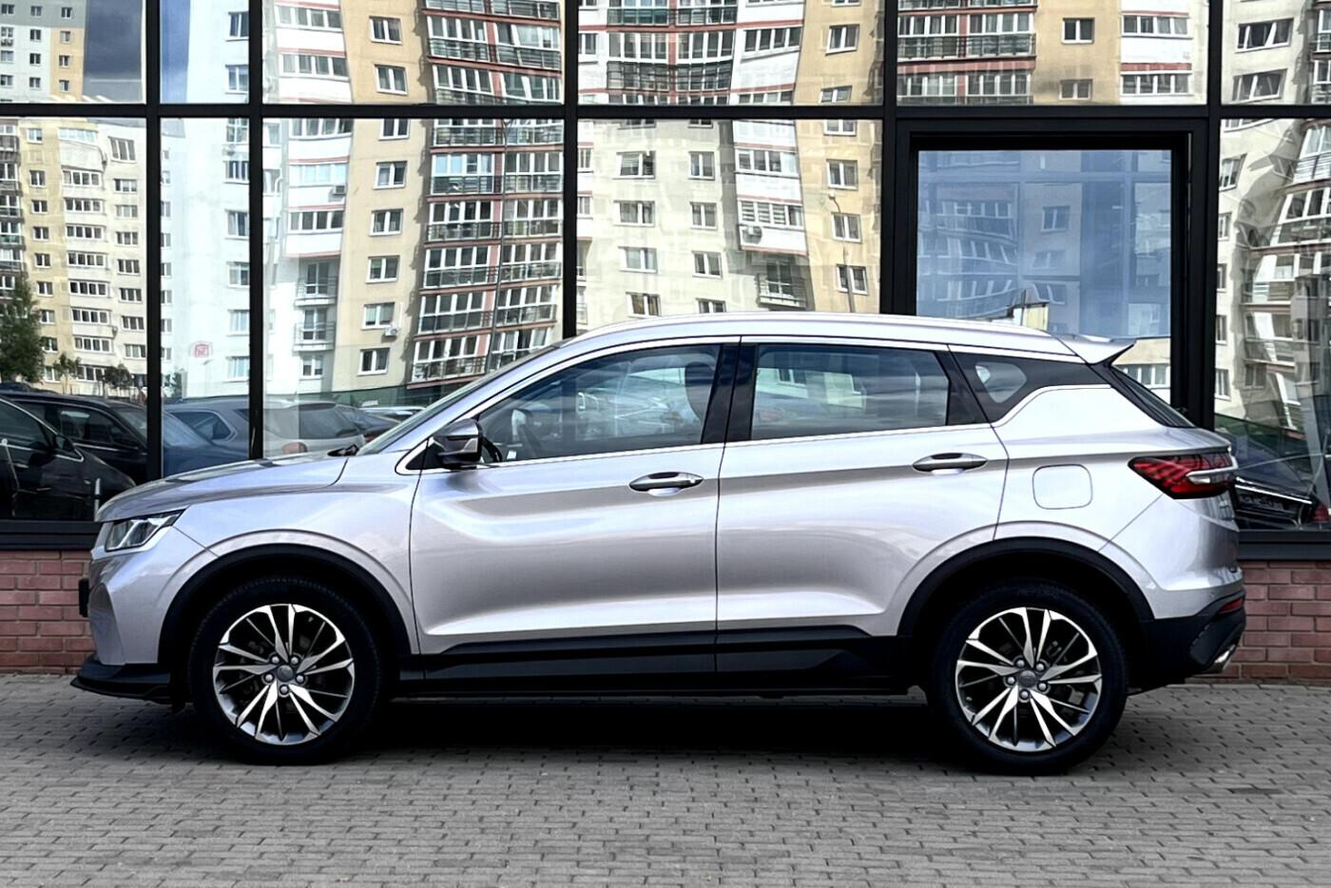Coolray_2019-2023: (64, 310, 1251, 775)
